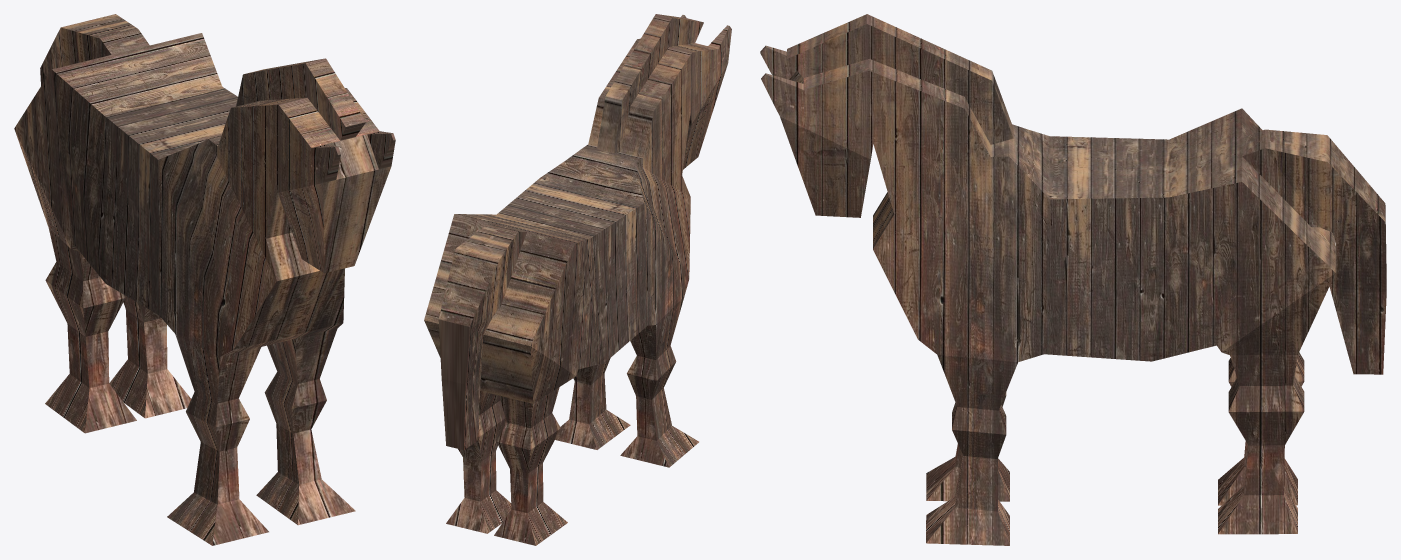
File: TrojanHorse.fbx
3 views of the same model, side by side, from view 1: azimuth 30°, elevation 25°; view 2: azimuth 150°, elevation 25°; view 3: azimuth 270°, elevation 25° (orthographic). The views are drawn at different scales.
Parts seen in each view (by area): view 1: Cube; view 2: Cube; view 3: Cube.
Part boxes in pixels (x1,y1,x2,y2): Cube: (14,14,395,545); Cube: (424,14,731,545); Cube: (760,14,1386,545).
Size of the model in its own units: 2.3 by 7.09 by 8.19.
